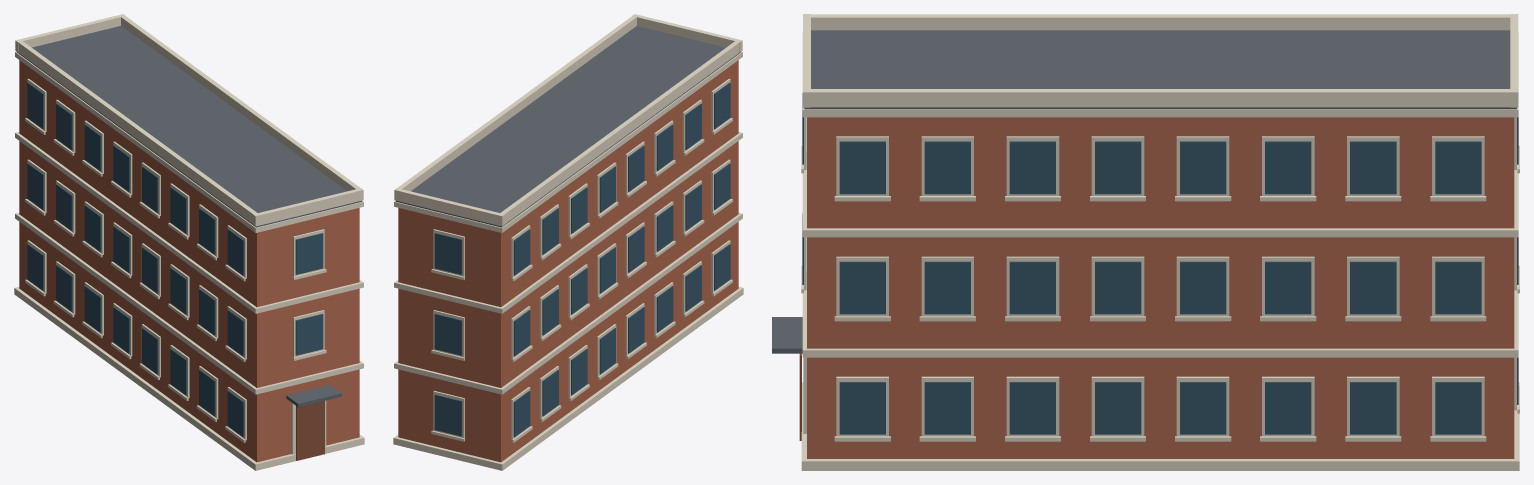
Rendered from 04-deep.glb.
The picture shows the model from 3 angles, left to right: view 1: azimuth 30°, elevation 25°; view 2: azimuth 150°, elevation 25°; view 3: azimuth 270°, elevation 25°; orthographic projection. The views are drawn at different scales.
Parts seen in each view (by area): view 1: 04-deep; view 2: 04-deep; view 3: 04-deep.
Part boxes in pixels (bbox=[...]): 04-deep: bbox=[14, 14, 364, 470]; 04-deep: bbox=[393, 14, 743, 470]; 04-deep: bbox=[772, 14, 1519, 470].
Bounding box in the file's own units: 4.26 × 9.44 × 16.92.
